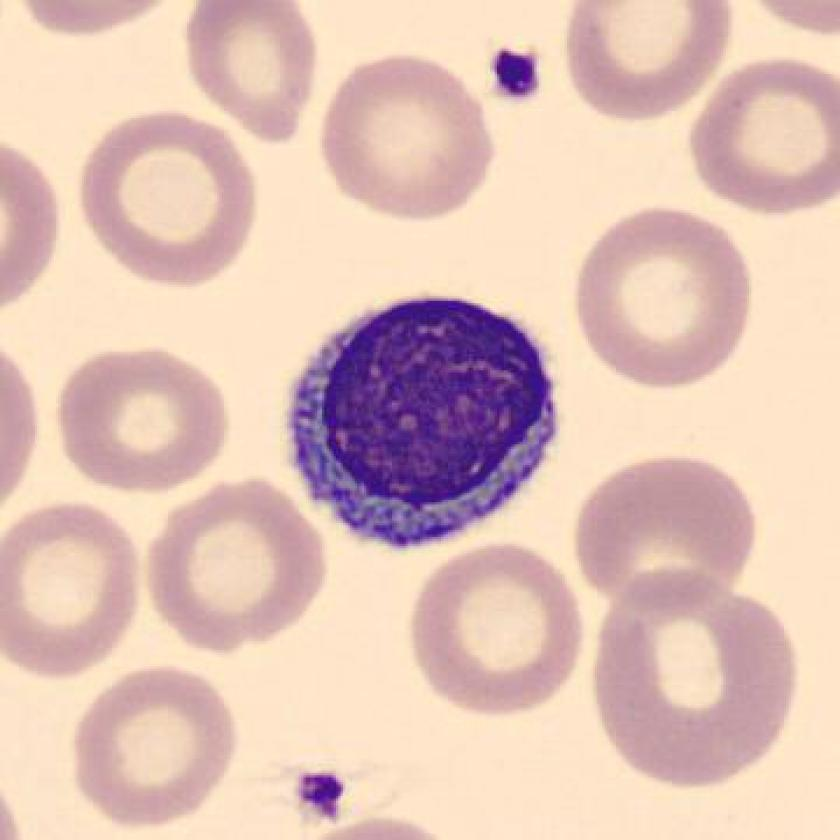lymphocyte: (272, 276, 568, 575)
